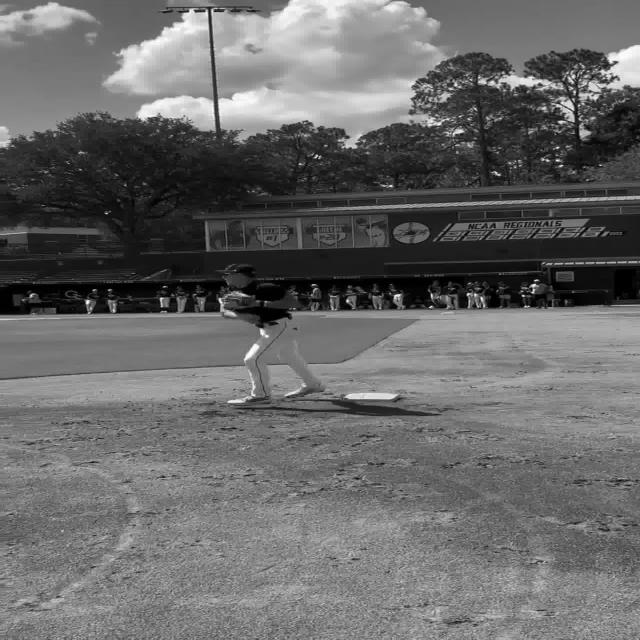base: (342, 392, 405, 402)
baseball_glove: (222, 291, 256, 310)
shoe: (284, 385, 325, 399), (227, 395, 271, 406)
